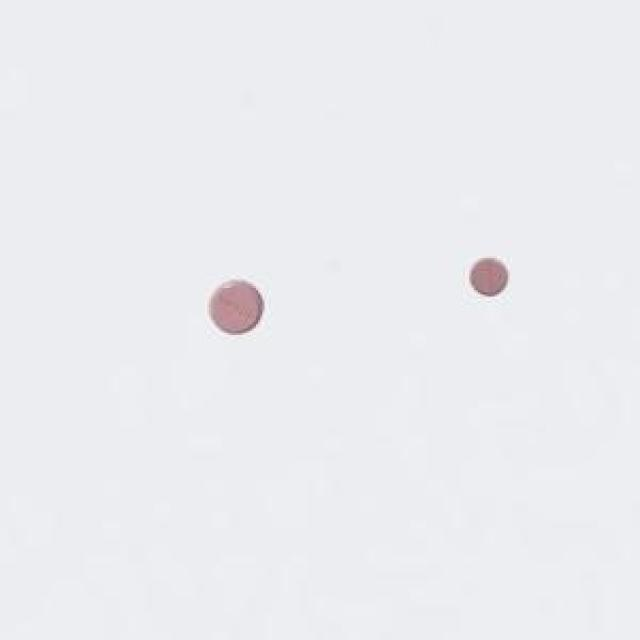Kremil_S: (202, 273, 268, 342), (466, 250, 515, 305)
